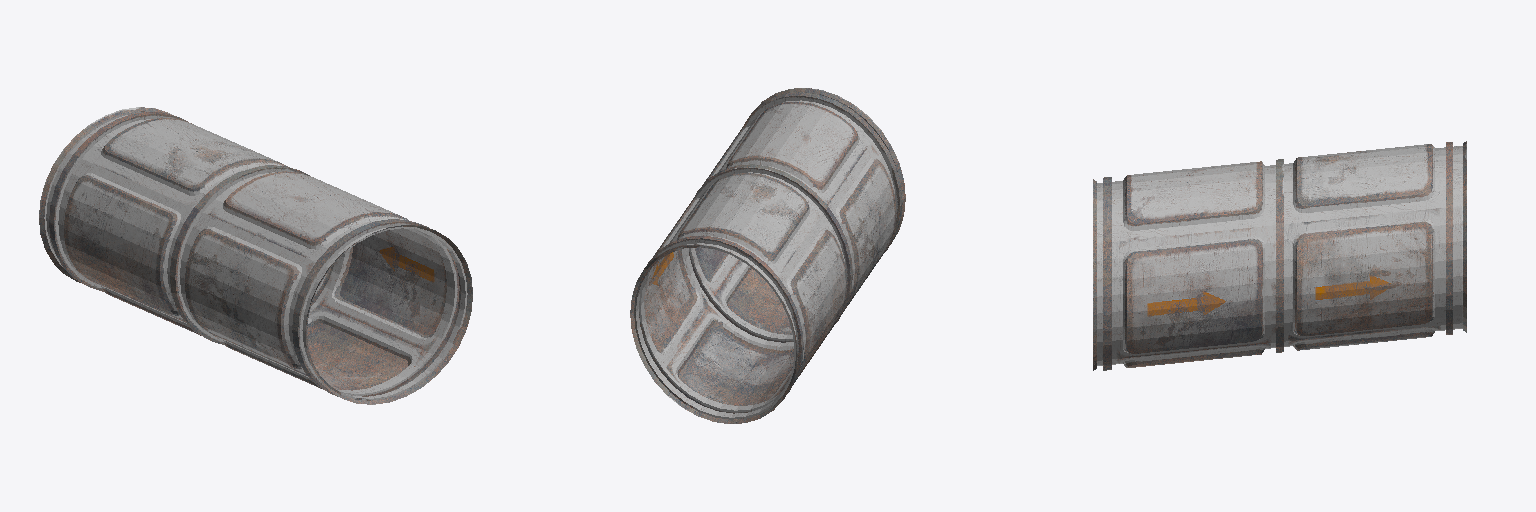
3 views of the same model, side by side, from view 1: azimuth 30°, elevation 25°; view 2: azimuth 150°, elevation 25°; view 3: azimuth 270°, elevation 25° (orthographic).
Parts seen in each view (by area): view 1: Cylinder002; view 2: Cylinder002; view 3: Cylinder002.
Boxes of the visible parts, x1=… form: Cylinder002: x1=39, y1=107, x2=472, y2=404; Cylinder002: x1=630, y1=88, x2=905, y2=423; Cylinder002: x1=1093, y1=141, x2=1466, y2=370.
Bounding box in the file's own units: 15.56 × 10.65 × 20.45.
1 materials, 1 textured.